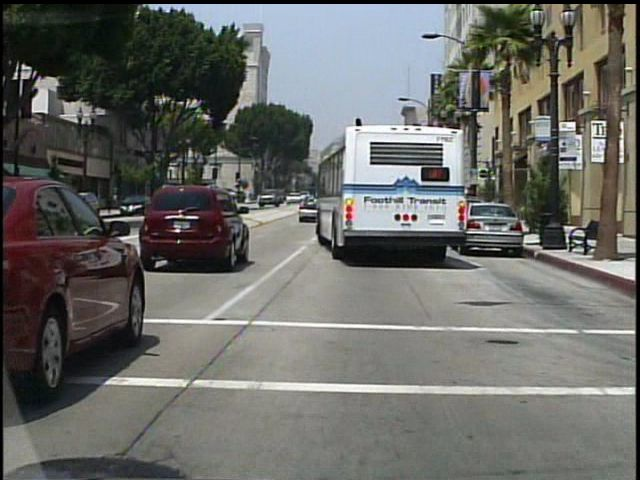person: (471, 184, 484, 226)
